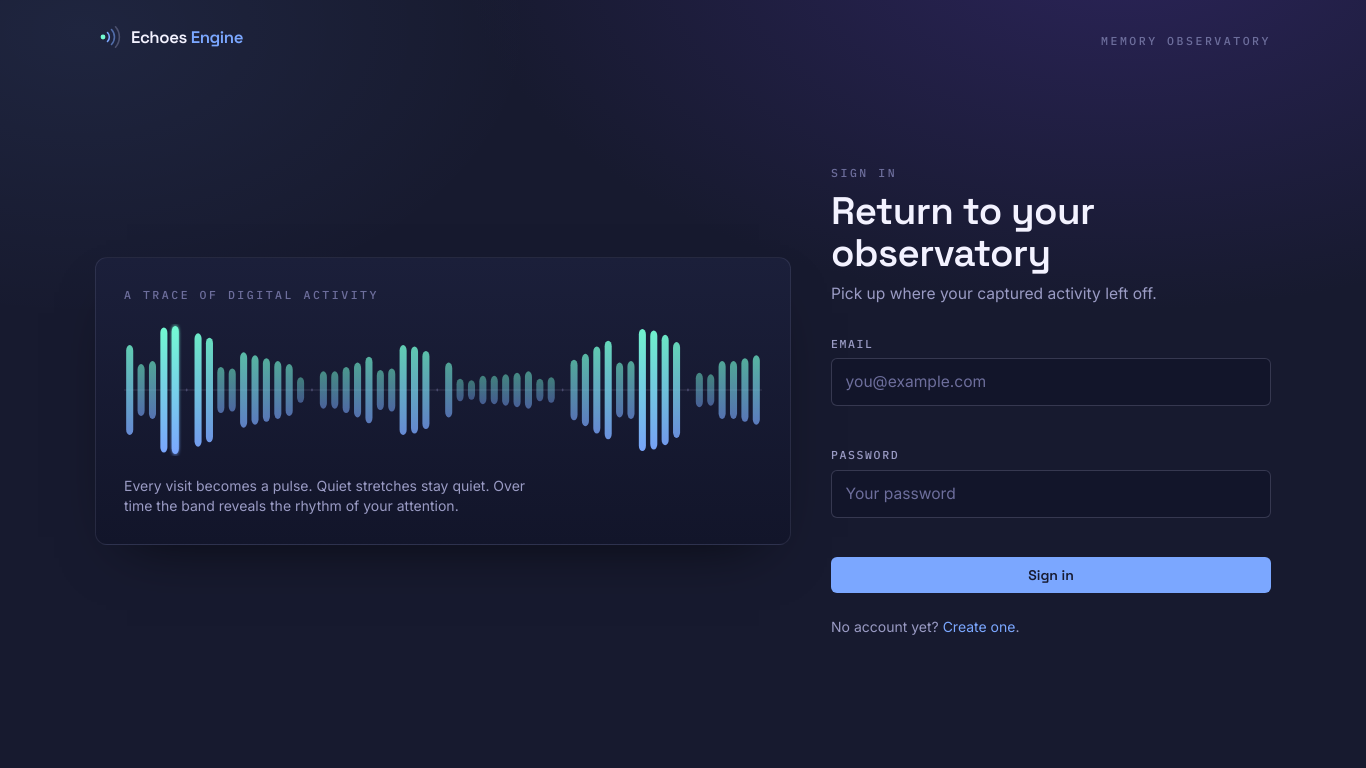
it: LoginPage validation › rejects an invalid email format
Type "not-an-email" into the field labelled "Email".
click(1051, 382); type("not-an-email")  # box [831,358,1271,406]
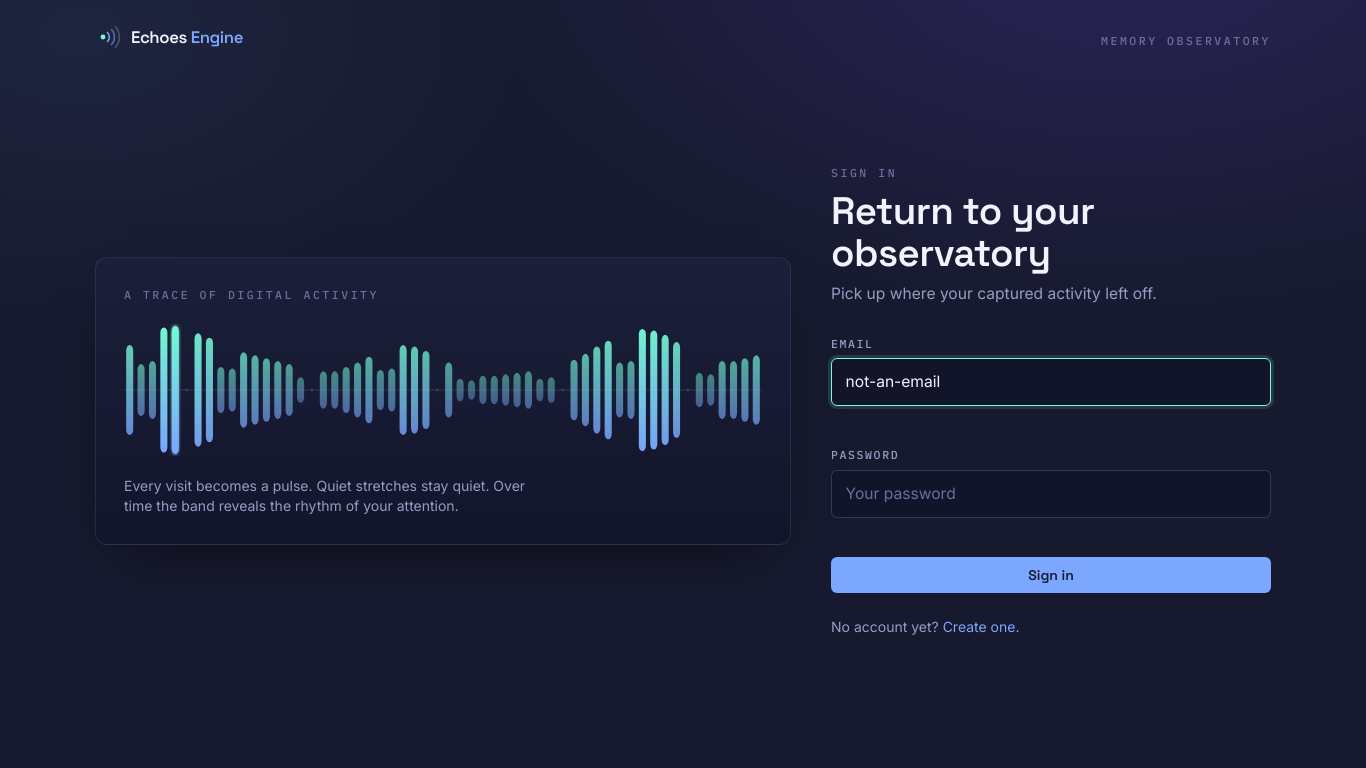
Type "secret123" into the password field labelled "Password".
click(1051, 494); type("secret123")  # box [831,470,1271,518]
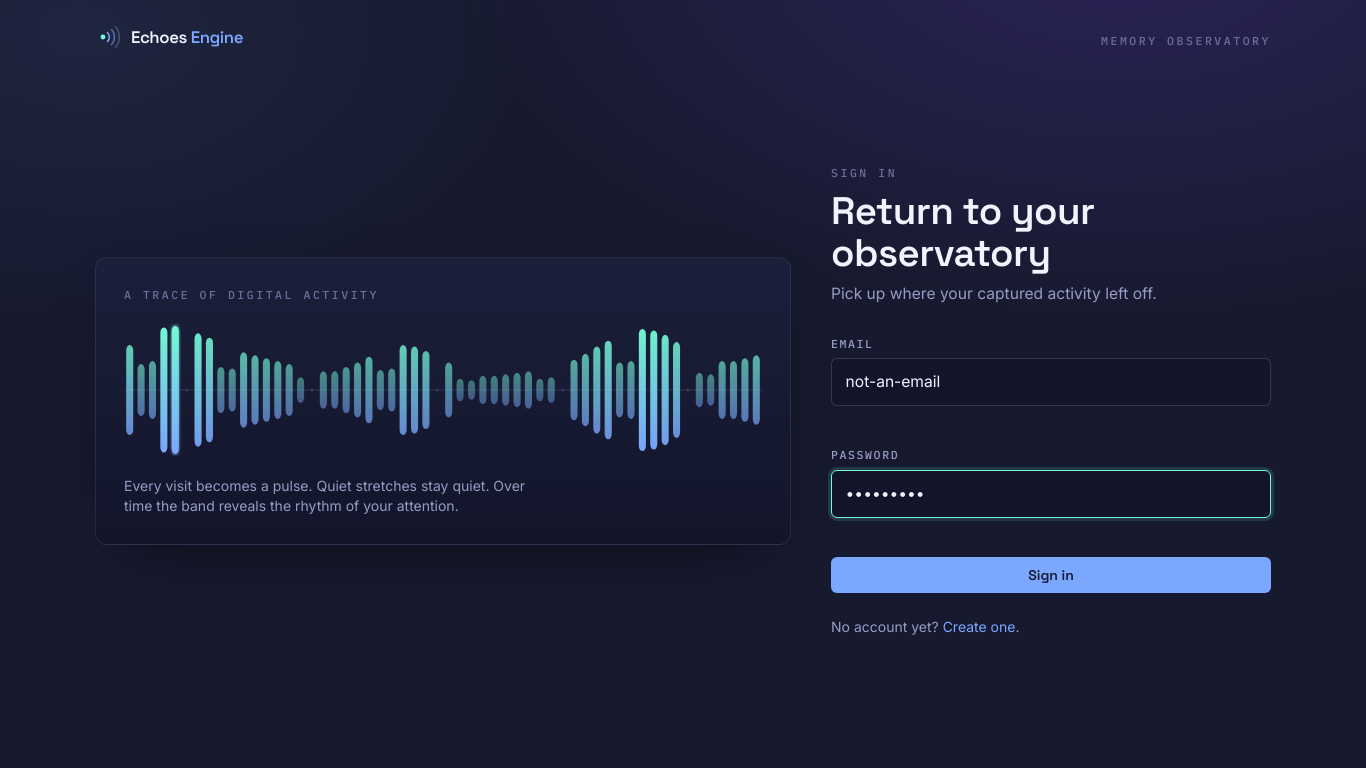
Click the button "Sign in".
click(1051, 575)  # box [831,557,1271,593]
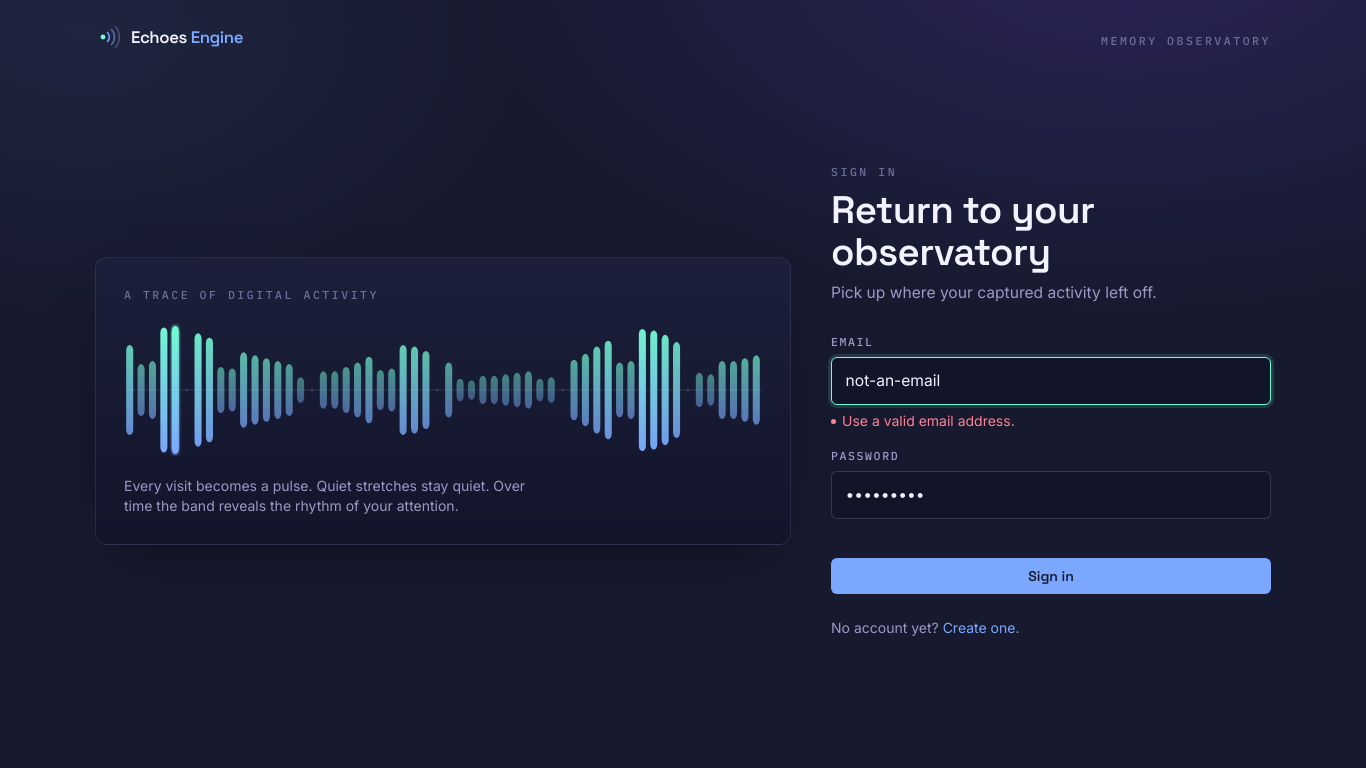
expect the text "Use a valid email address." is shown: met, box [831,412,1015,429]
